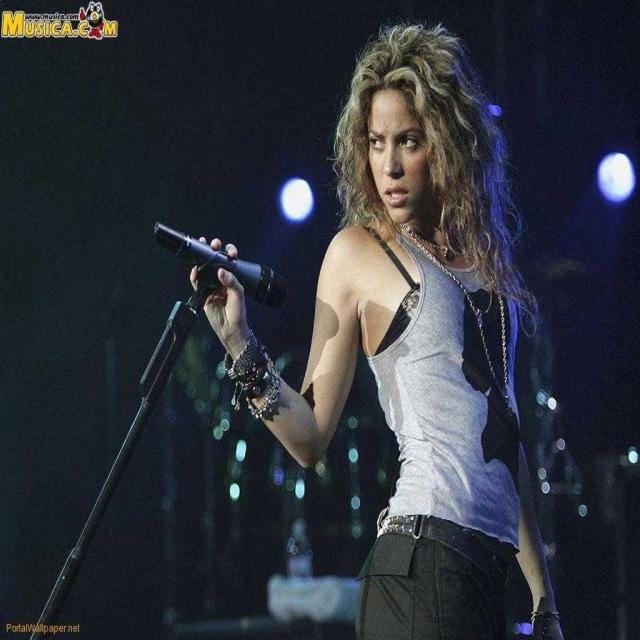microphone: (154, 221, 288, 309)
